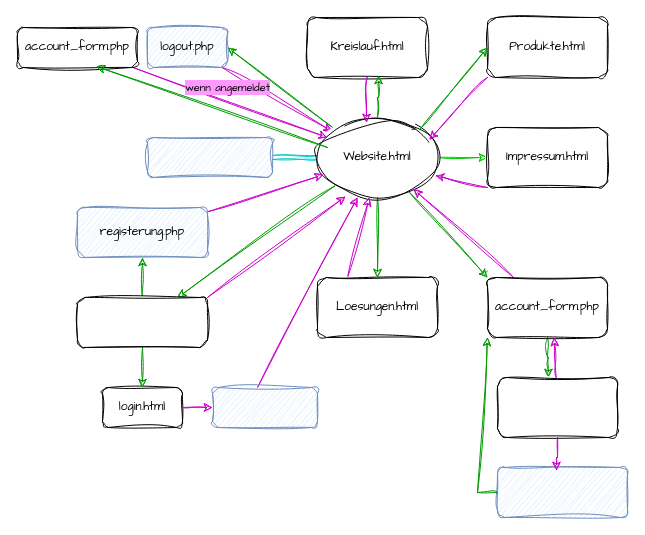
This 645x535 diagram has some shape labels left out. Here are the shapes that lost their labels. From the top down, the centre of each, then its label:
point 209,157: session_status.php wird in jeder seite included
point 142,322: registerung_form.php
point 265,407: login.php
point 557,407: account_edit.php
point 562,492: account.php
